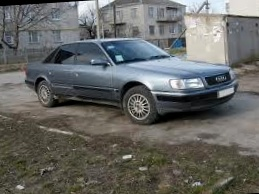car: (9, 17, 256, 153)
